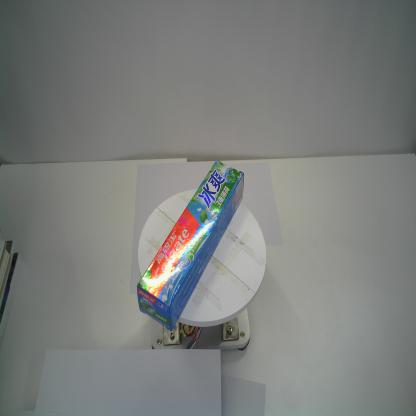Personal Hygiene: (137, 160, 244, 330)
